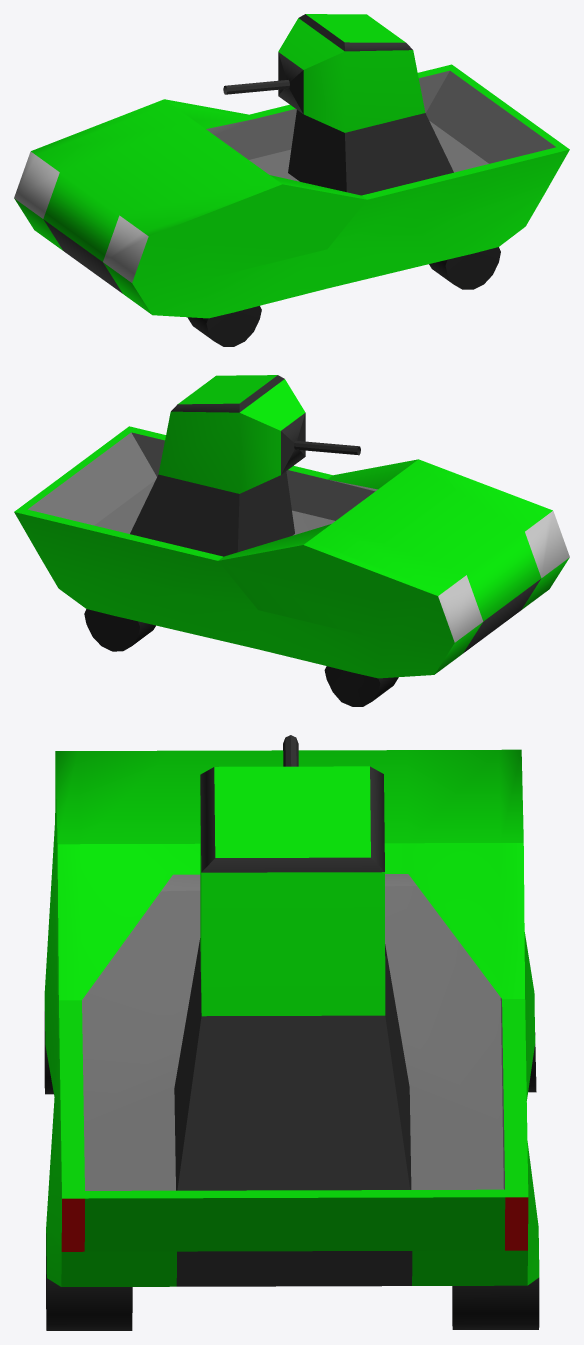
The model's file is WarLightGreen.fbx.
3 views of the same model, one above another, from view 1: azimuth 30°, elevation 25°; view 2: azimuth 150°, elevation 25°; view 3: azimuth 270°, elevation 25° (orthographic). The views are drawn at different scales.
Visible parts, largest first — view 1: pCylinder6; view 2: pCylinder6; view 3: pCylinder6.
Part boxes in pixels (x1=…): pCylinder6: x1=14, y1=14, x2=569, y2=346; pCylinder6: x1=14, y1=375, x2=569, y2=706; pCylinder6: x1=44, y1=735, x2=539, y2=1330.
Size of the model in its own units: 4.32 by 2.23 by 2.1.
